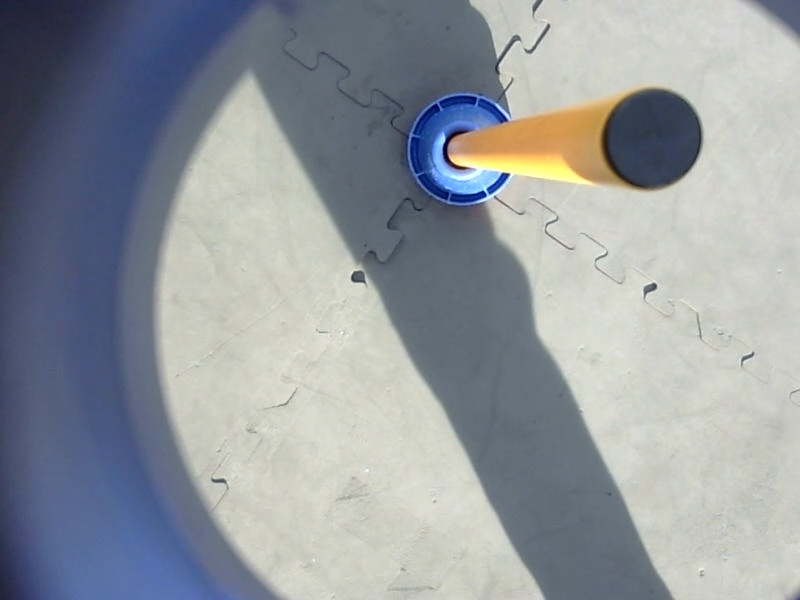tip: (595, 81, 714, 198)
